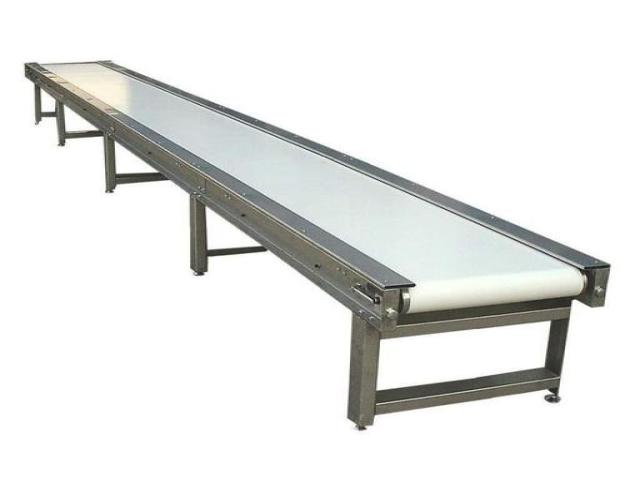conveyor: (20, 58, 610, 319)
